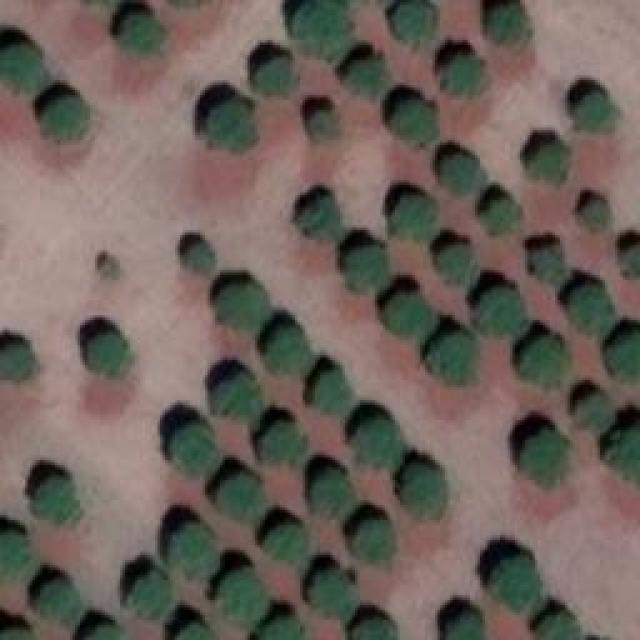Tree: (297, 0, 347, 62), (168, 523, 221, 578), (350, 418, 403, 471), (205, 98, 255, 153), (520, 430, 565, 490), (218, 570, 268, 623), (473, 290, 526, 338), (492, 558, 540, 611), (175, 423, 220, 478), (428, 335, 478, 383), (403, 465, 448, 518), (0, 45, 48, 93), (213, 373, 258, 423), (393, 0, 438, 48), (217, 285, 265, 330), (313, 570, 356, 620), (607, 427, 640, 492), (570, 283, 610, 336), (310, 470, 353, 518), (35, 475, 78, 523), (518, 338, 563, 383), (268, 328, 313, 373), (218, 475, 263, 520), (35, 580, 80, 625), (388, 293, 431, 338), (125, 575, 173, 615), (393, 100, 436, 143), (393, 198, 436, 241), (43, 98, 83, 141), (265, 525, 310, 563), (607, 332, 640, 382), (123, 13, 163, 53), (353, 520, 393, 560), (443, 55, 483, 93), (443, 155, 483, 193), (575, 93, 613, 133), (300, 198, 338, 238), (527, 142, 565, 180), (575, 392, 613, 430), (265, 422, 303, 460), (0, 530, 30, 578), (315, 370, 348, 413), (490, 3, 525, 43), (348, 60, 388, 95), (90, 335, 125, 375), (255, 57, 290, 95), (347, 250, 385, 285), (440, 245, 473, 280), (0, 345, 32, 380), (538, 615, 581, 640), (535, 245, 563, 283), (483, 200, 516, 230), (262, 617, 305, 640), (310, 110, 340, 140), (355, 620, 398, 640), (185, 243, 213, 273), (450, 615, 483, 640), (82, 625, 130, 640), (583, 200, 606, 228), (622, 245, 640, 278)
